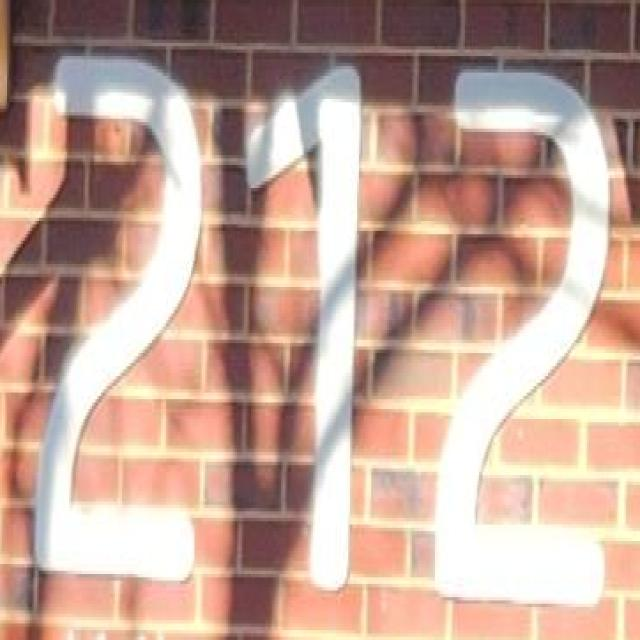character: (430, 59, 616, 617), (32, 43, 205, 591), (243, 64, 365, 604)
